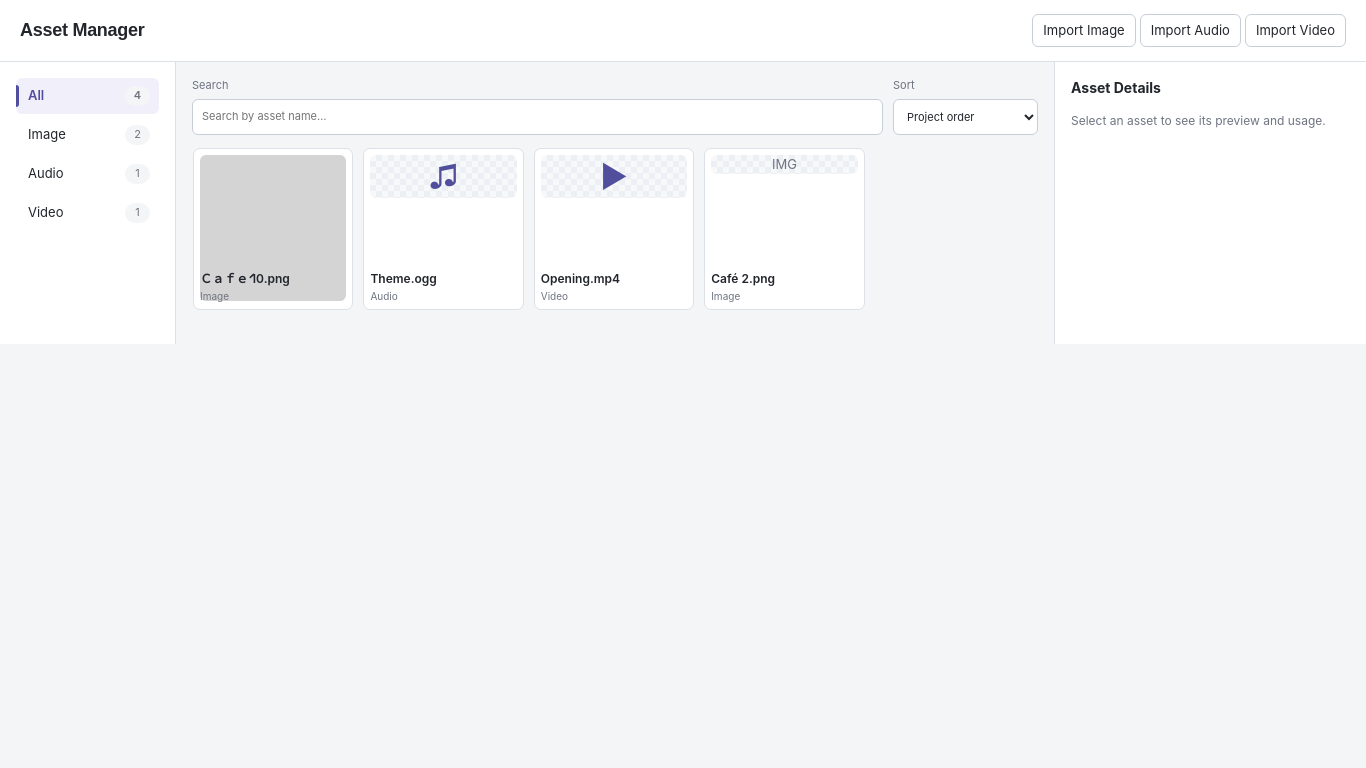
Test: AssetManager › routes context-menu deletion through the existing confirm and delete flow
Step 1. Click the button "IMG Café 2.png Image" → point(784, 229), box x1=704 y1=148 x2=865 y2=310
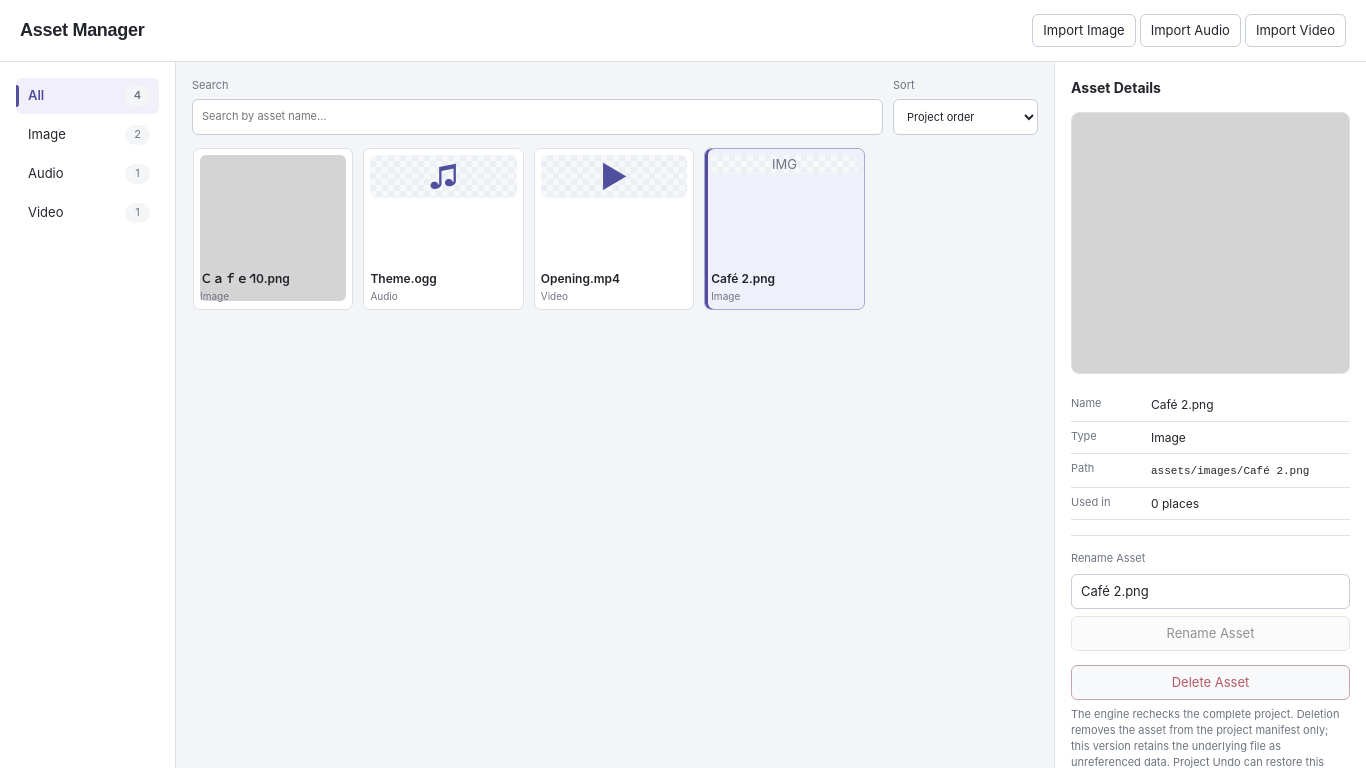
Step 2. Right-click the button "▶ Opening.mp4 Video" → point(614, 229), box x1=534 y1=148 x2=694 y2=310
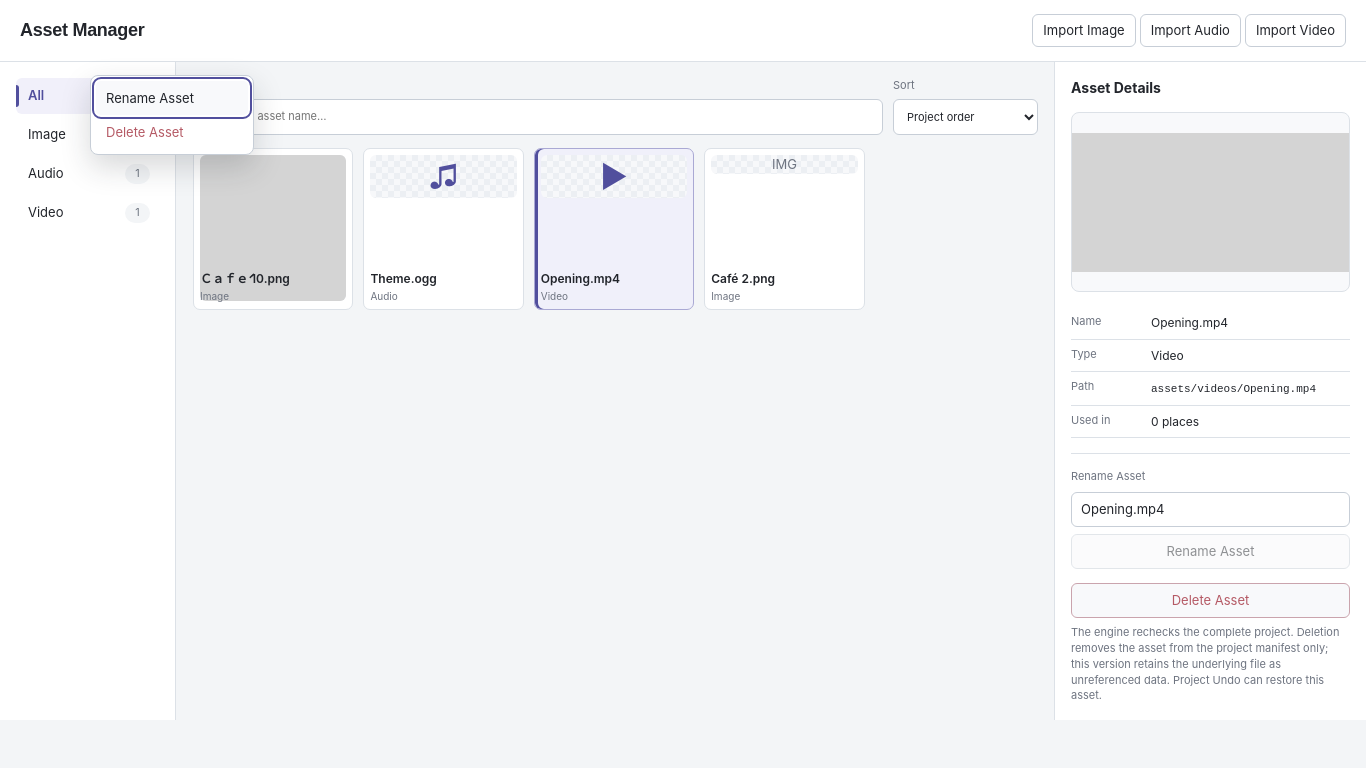
Result: the menu item "Delete Asset" is enabled
Step 3. Click the menu item "Delete Asset" → point(172, 132), box x1=96 y1=115 x2=248 y2=149
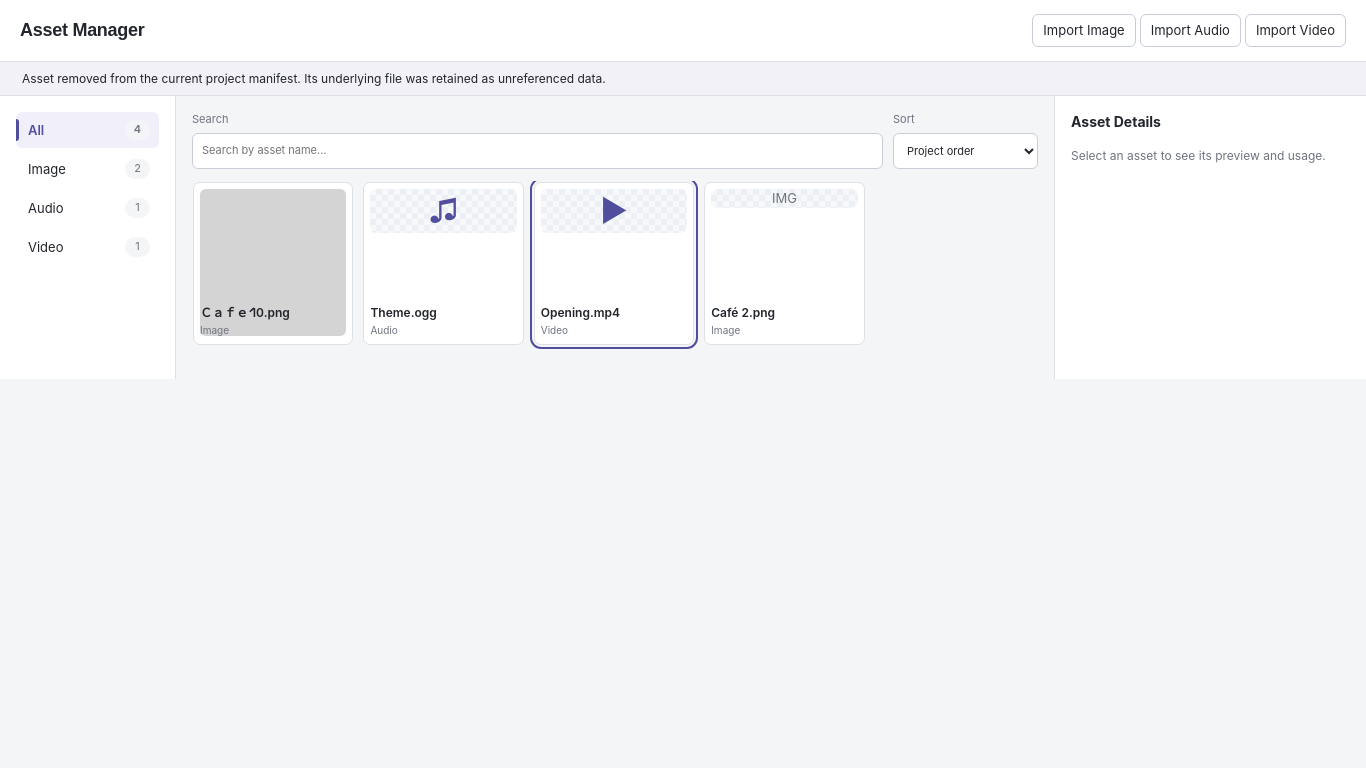
Result: the menu is gone
Result: the message shows "Asset removed from the current project manifest. Its underlying file was retained as unreferenced data." at x1=22 y1=71 x2=606 y2=86
